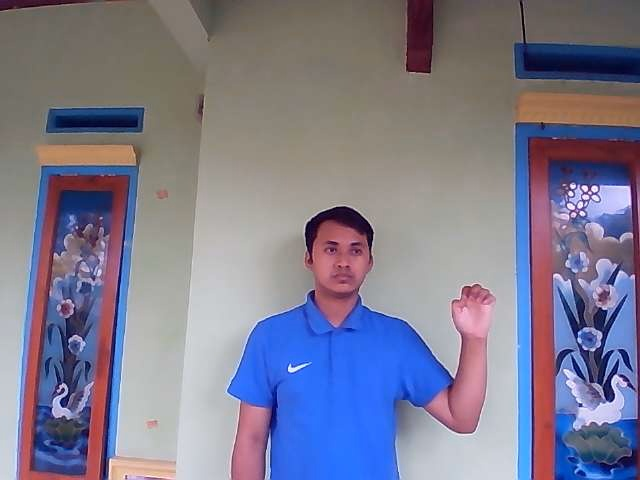E: (450, 283, 497, 334)
